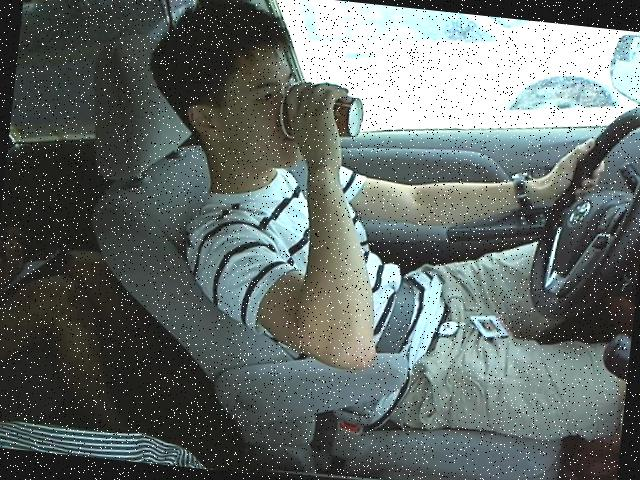c4 - Drinking: (111, 0, 639, 411)
